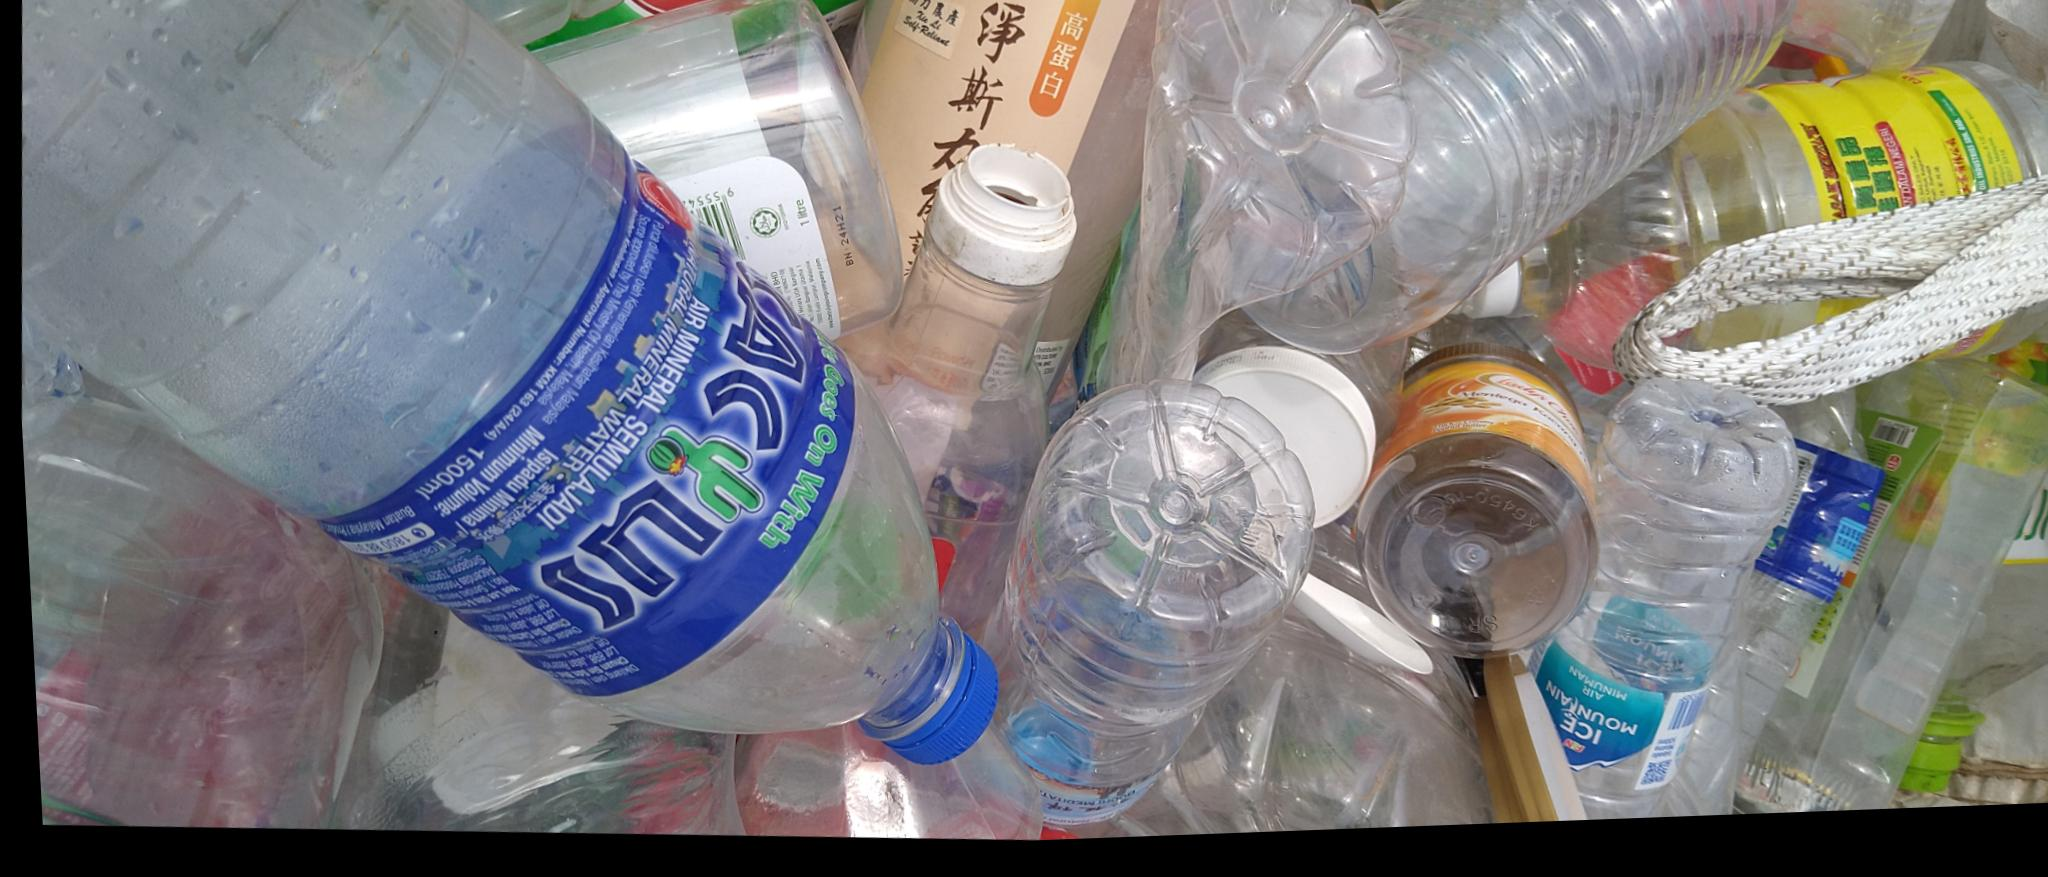plastic: (24, 0, 987, 826), (1113, 0, 1789, 379), (1531, 0, 2047, 389), (355, 620, 1042, 834), (993, 379, 1313, 827)
